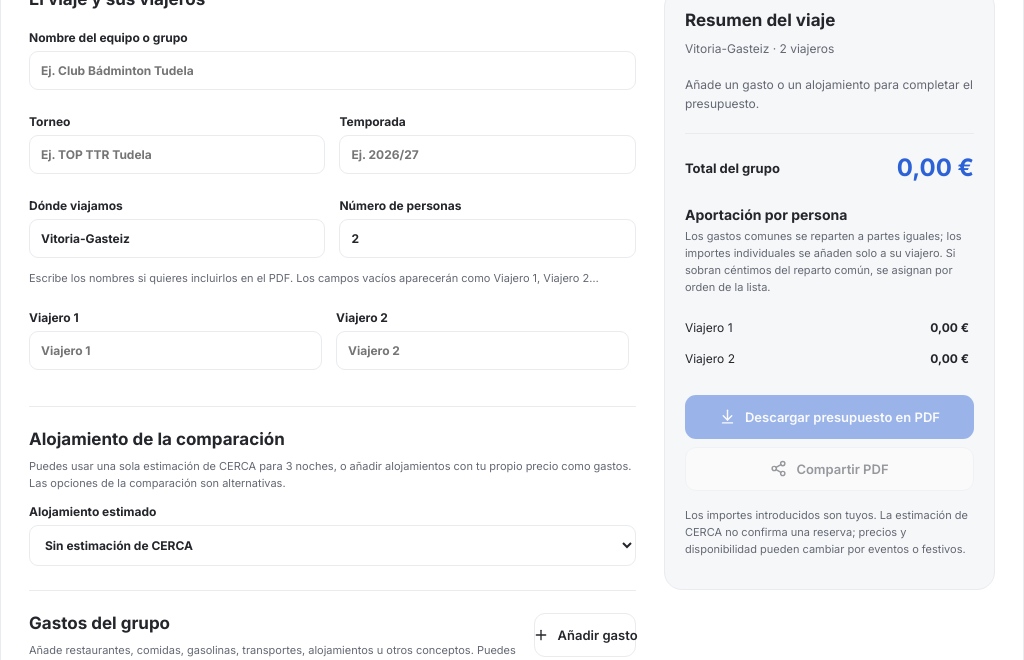
Presupuesto por viajero › permite anotar 10 € para un viajero y 5 € para otro
(page scrolled)
Type "Ana" into the field labelled "Viajero 1" at (176, 350), box [29, 331, 322, 370]
Type "Luis" into the field labelled "Viajero 2" at (482, 350), box [336, 331, 629, 370]
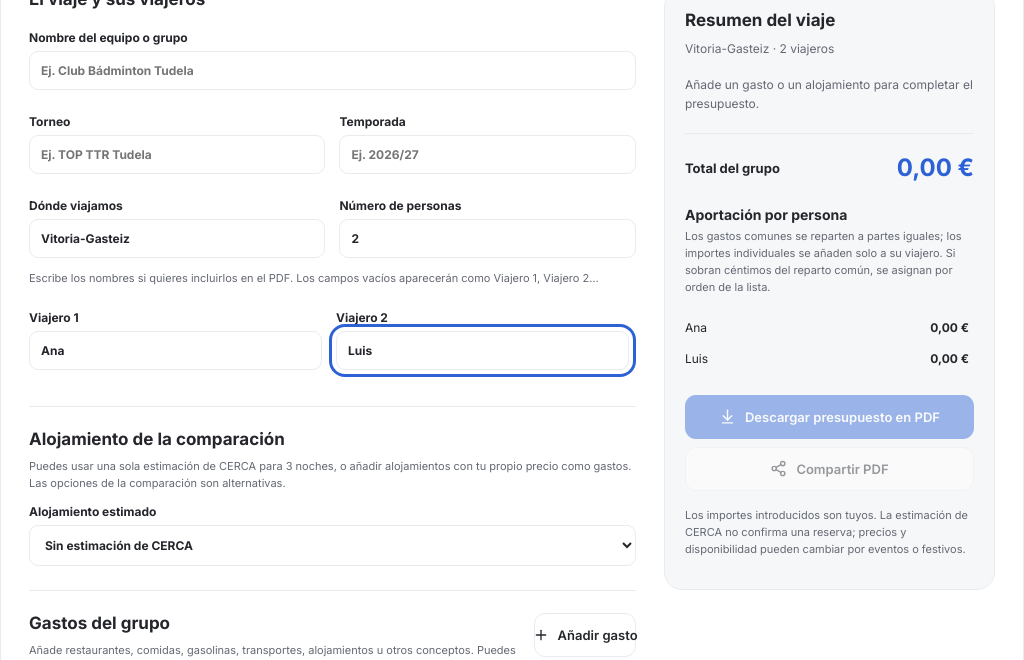
Click the button "Añadir gasto" at (585, 635), box [534, 613, 636, 657]
(page scrolled)
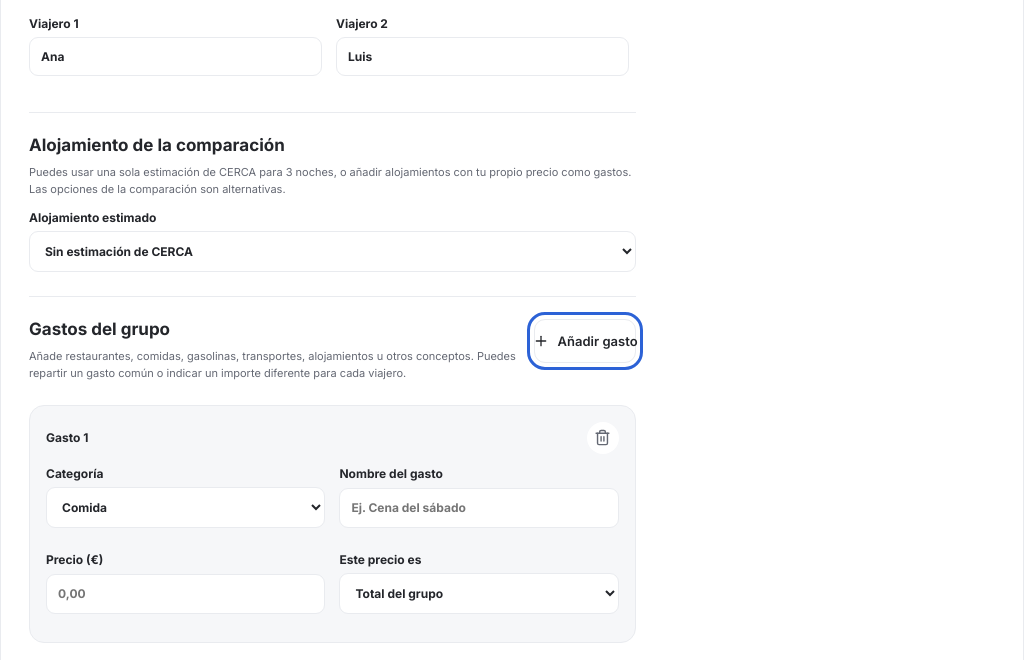
Type "Cena" into the field labelled "Nombre del gasto" at (479, 508), box [340, 488, 619, 528]
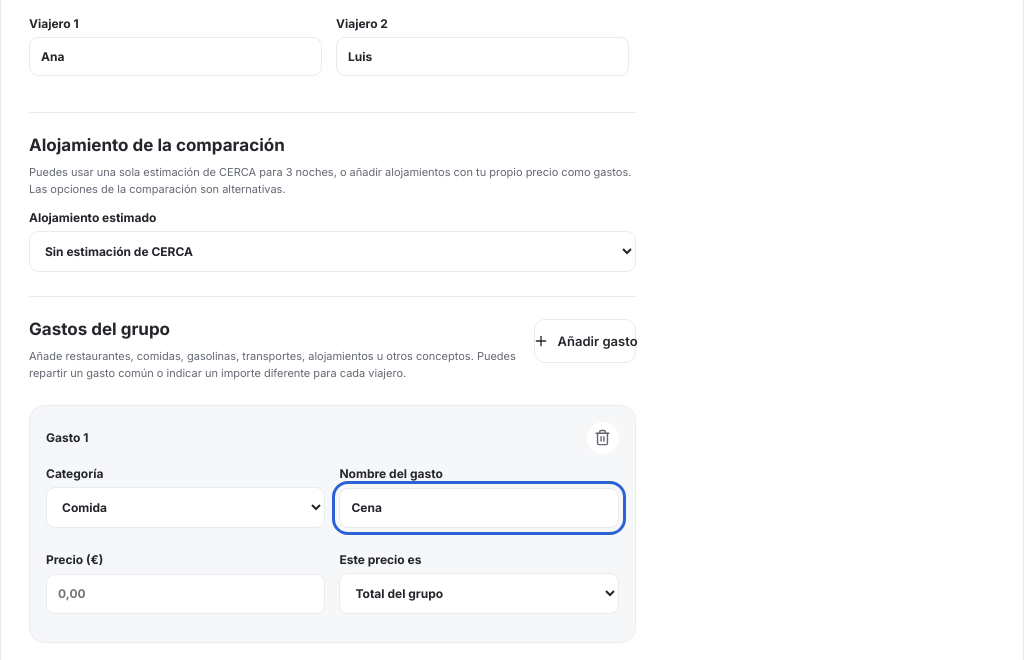
Select "Importe distinto por viajero" in the dropdown labelled "Este precio es" at (479, 594), box [340, 573, 619, 614]
(page scrolled)
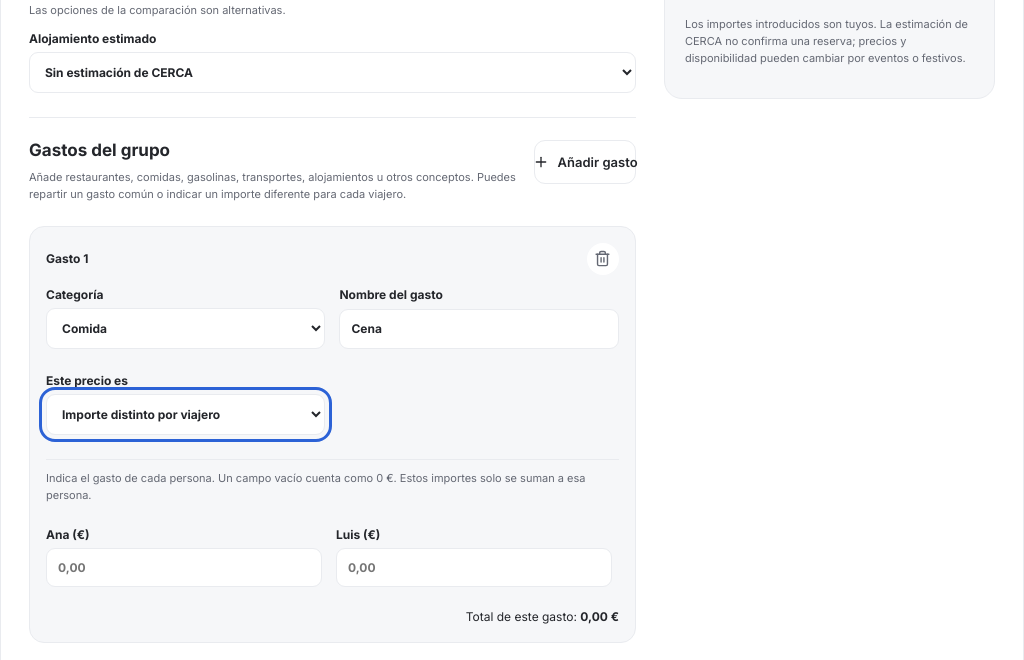
Type "10" into the field labelled "Ana (€)" at (184, 568), box [46, 548, 322, 587]
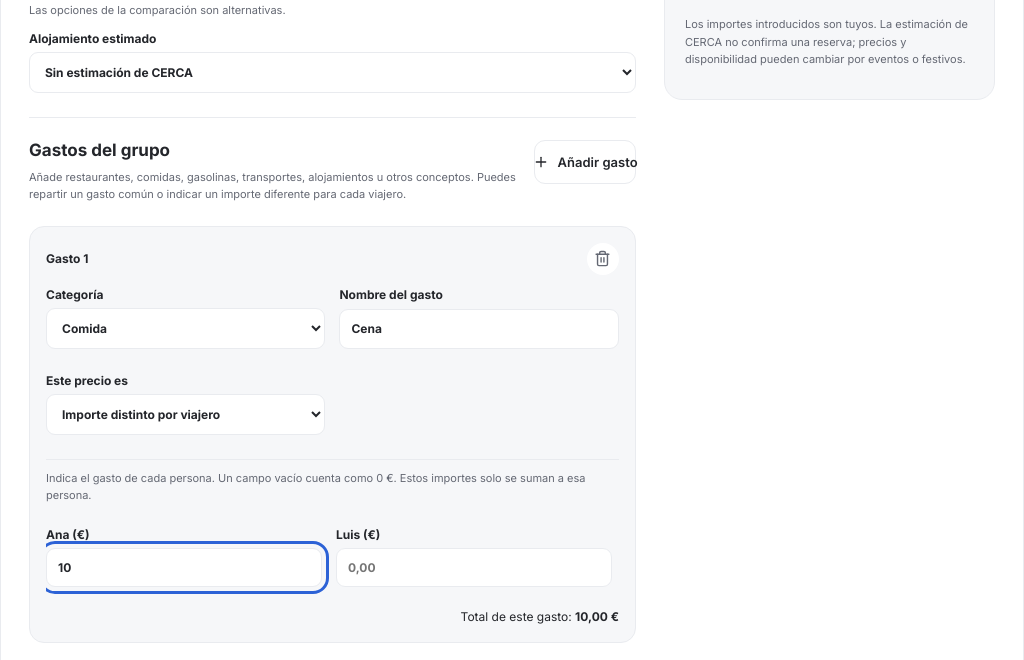
Type "5" into the field labelled "Luis (€)" at (474, 568), box [336, 548, 612, 587]
(page scrolled)
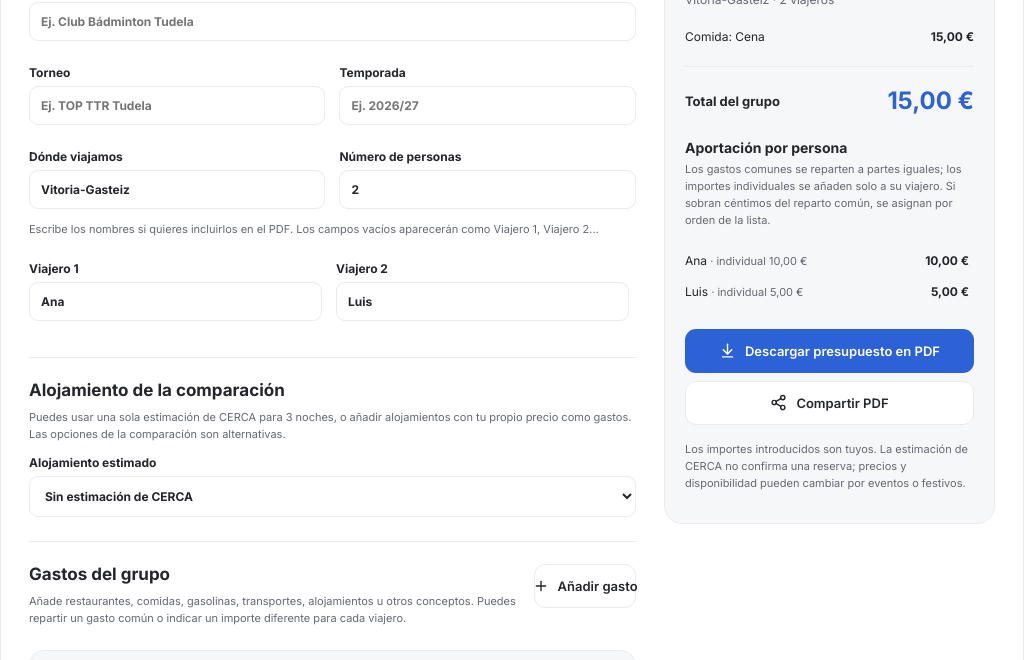
Expected: the element "Resumen del viaje" shows "Ana", [685, 253, 707, 268]
Expected: the element "Resumen del viaje" shows "10,00 €", [769, 254, 807, 268]
Expected: the element "Resumen del viaje" shows "15,00 €", [931, 29, 974, 44]
